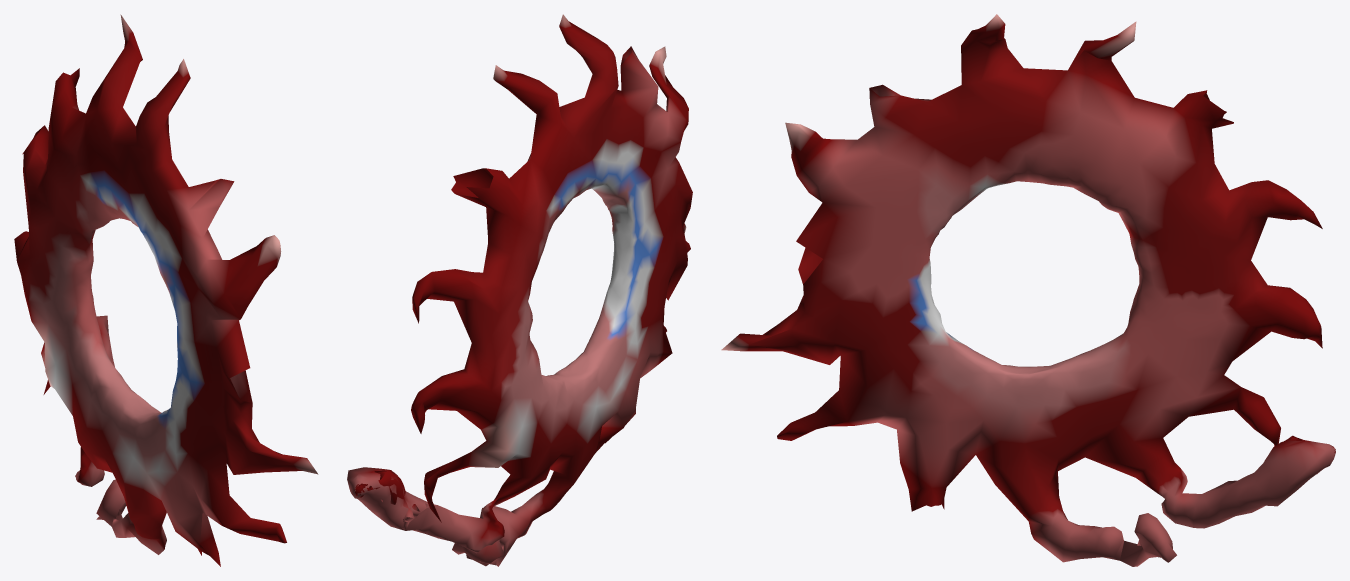
File: sawbladeMaxDamage.dae
The picture shows the model from 3 angles, left to right: view 1: azimuth 30°, elevation 25°; view 2: azimuth 150°, elevation 25°; view 3: azimuth 270°, elevation 25°; orthographic projection. The views are drawn at different scales.
Parts seen in each view (by area): view 1: Model; view 2: Model; view 3: Model.
Boxes of the visible parts, x1,y1,x2,y2 form: Model: (14, 14, 318, 566); Model: (347, 14, 692, 566); Model: (721, 14, 1335, 566).
Bounding box in the file's own units: 1.85 × 7.55 × 7.62.
